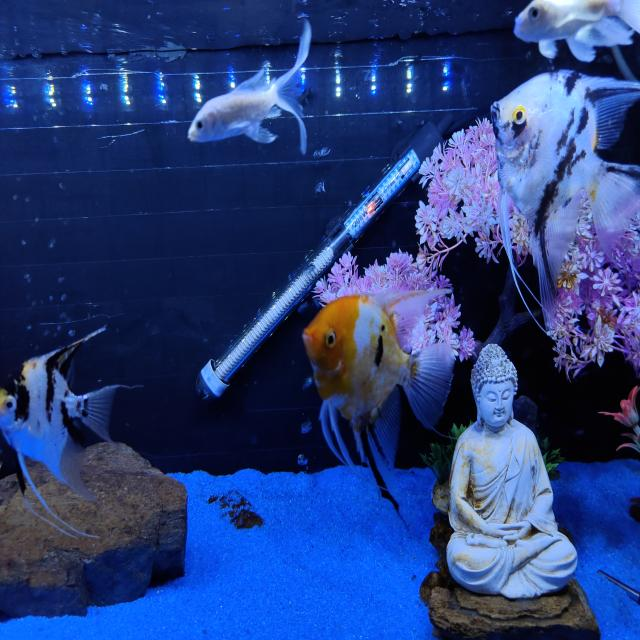Fish: (491, 70, 639, 329), (303, 290, 454, 509), (0, 328, 123, 537), (188, 21, 311, 154), (514, 0, 639, 61)
